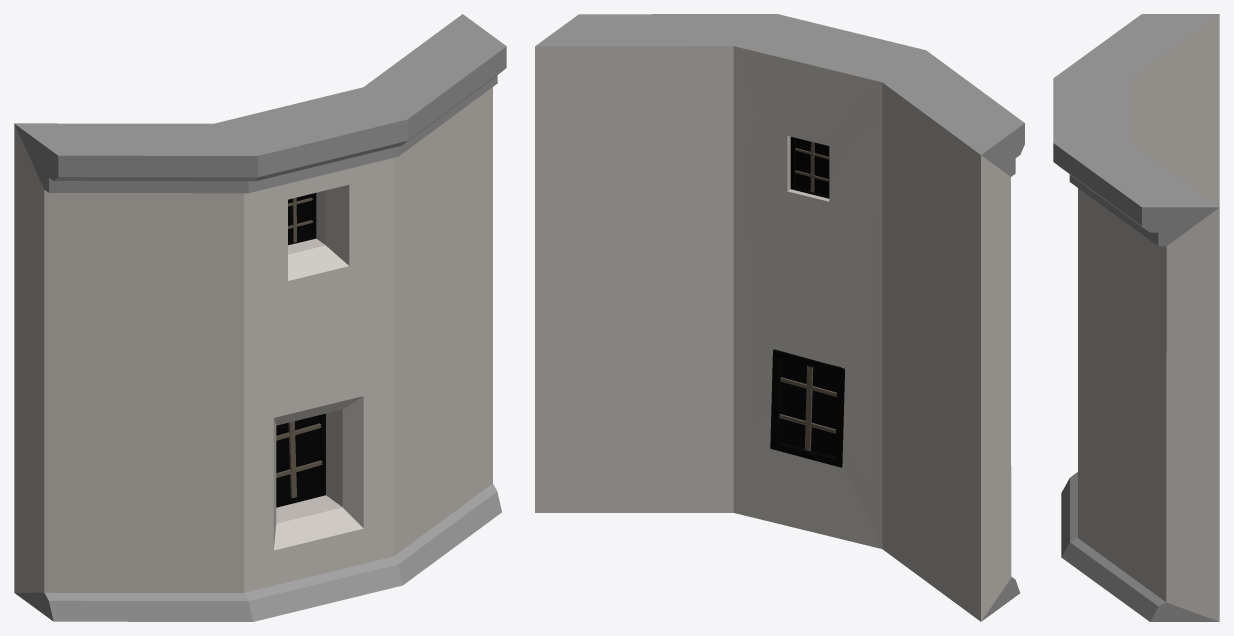
File: _BALKON_03_1.fbx
3 views of the same model, side by side, from view 1: azimuth 30°, elevation 25°; view 2: azimuth 150°, elevation 25°; view 3: azimuth 270°, elevation 25° (orthographic). The views are drawn at different scales.
Visible parts, largest first — view 1: BALKON_03_1; view 2: BALKON_03_1; view 3: BALKON_03_1.
Part boxes in pixels (x1,y1,x2,y2): BALKON_03_1: (14, 14, 506, 621); BALKON_03_1: (535, 14, 1024, 621); BALKON_03_1: (1053, 14, 1219, 621).
Bounding box in the file's own units: 300 × 300 × 109.
